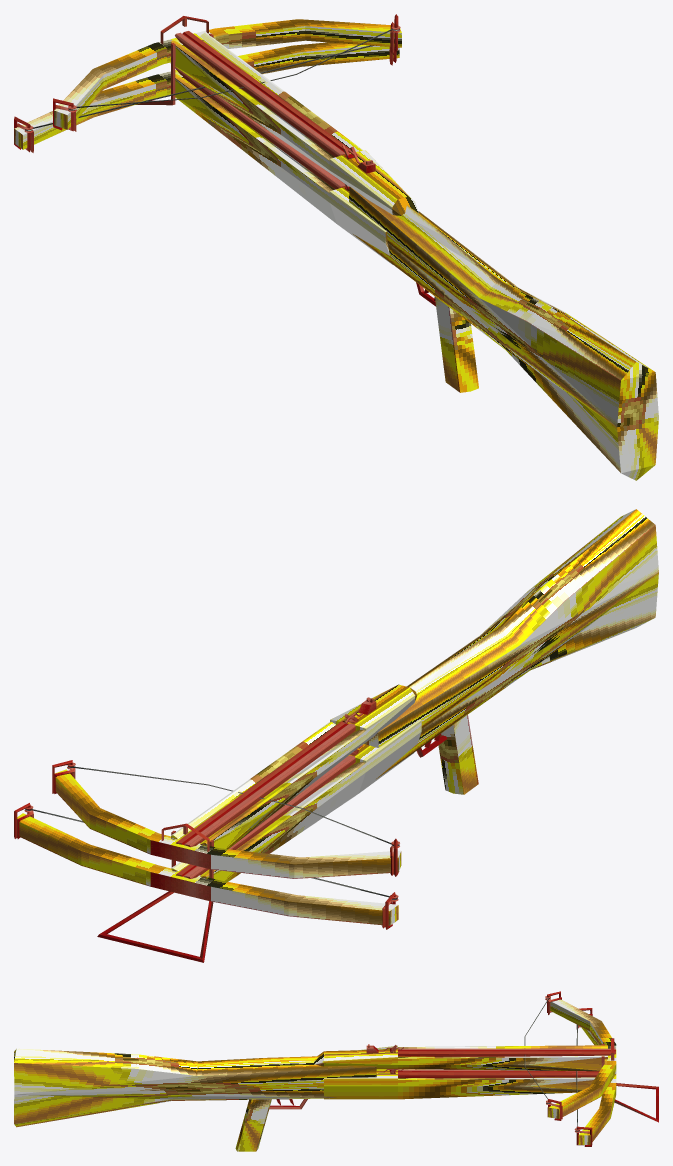
The model's file is double_crossbow_stretching_upper_2.obj.
3 views of the same model, one above another, from view 1: azimuth 30°, elevation 25°; view 2: azimuth 150°, elevation 25°; view 3: azimuth 270°, elevation 25° (orthographic). The views are drawn at different scales.
Parts seen in each view (by area): view 1: Torus.009_Torus.008, Torus.000, Torus.001_Torus.007; view 2: Torus.009_Torus.008, Torus.001_Torus.007, Torus.000; view 3: Torus.009_Torus.008, Torus.000, Torus.001_Torus.007.
Boxes of the visible parts, x1,y1,x2,y2 form: Torus.009_Torus.008: (342,144,658,480); Torus.000: (136,16,418,264); Torus.001_Torus.007: (14,14,401,152); Torus.009_Torus.008: (342,509,658,794); Torus.001_Torus.007: (14,760,401,929); Torus.000: (97,684,421,962); Torus.009_Torus.008: (14,1044,403,1151); Torus.000: (314,1038,658,1122); Torus.001_Torus.007: (524,991,616,1146).
Size of the model in its own units: 3.45 by 1.45 by 7.77.
